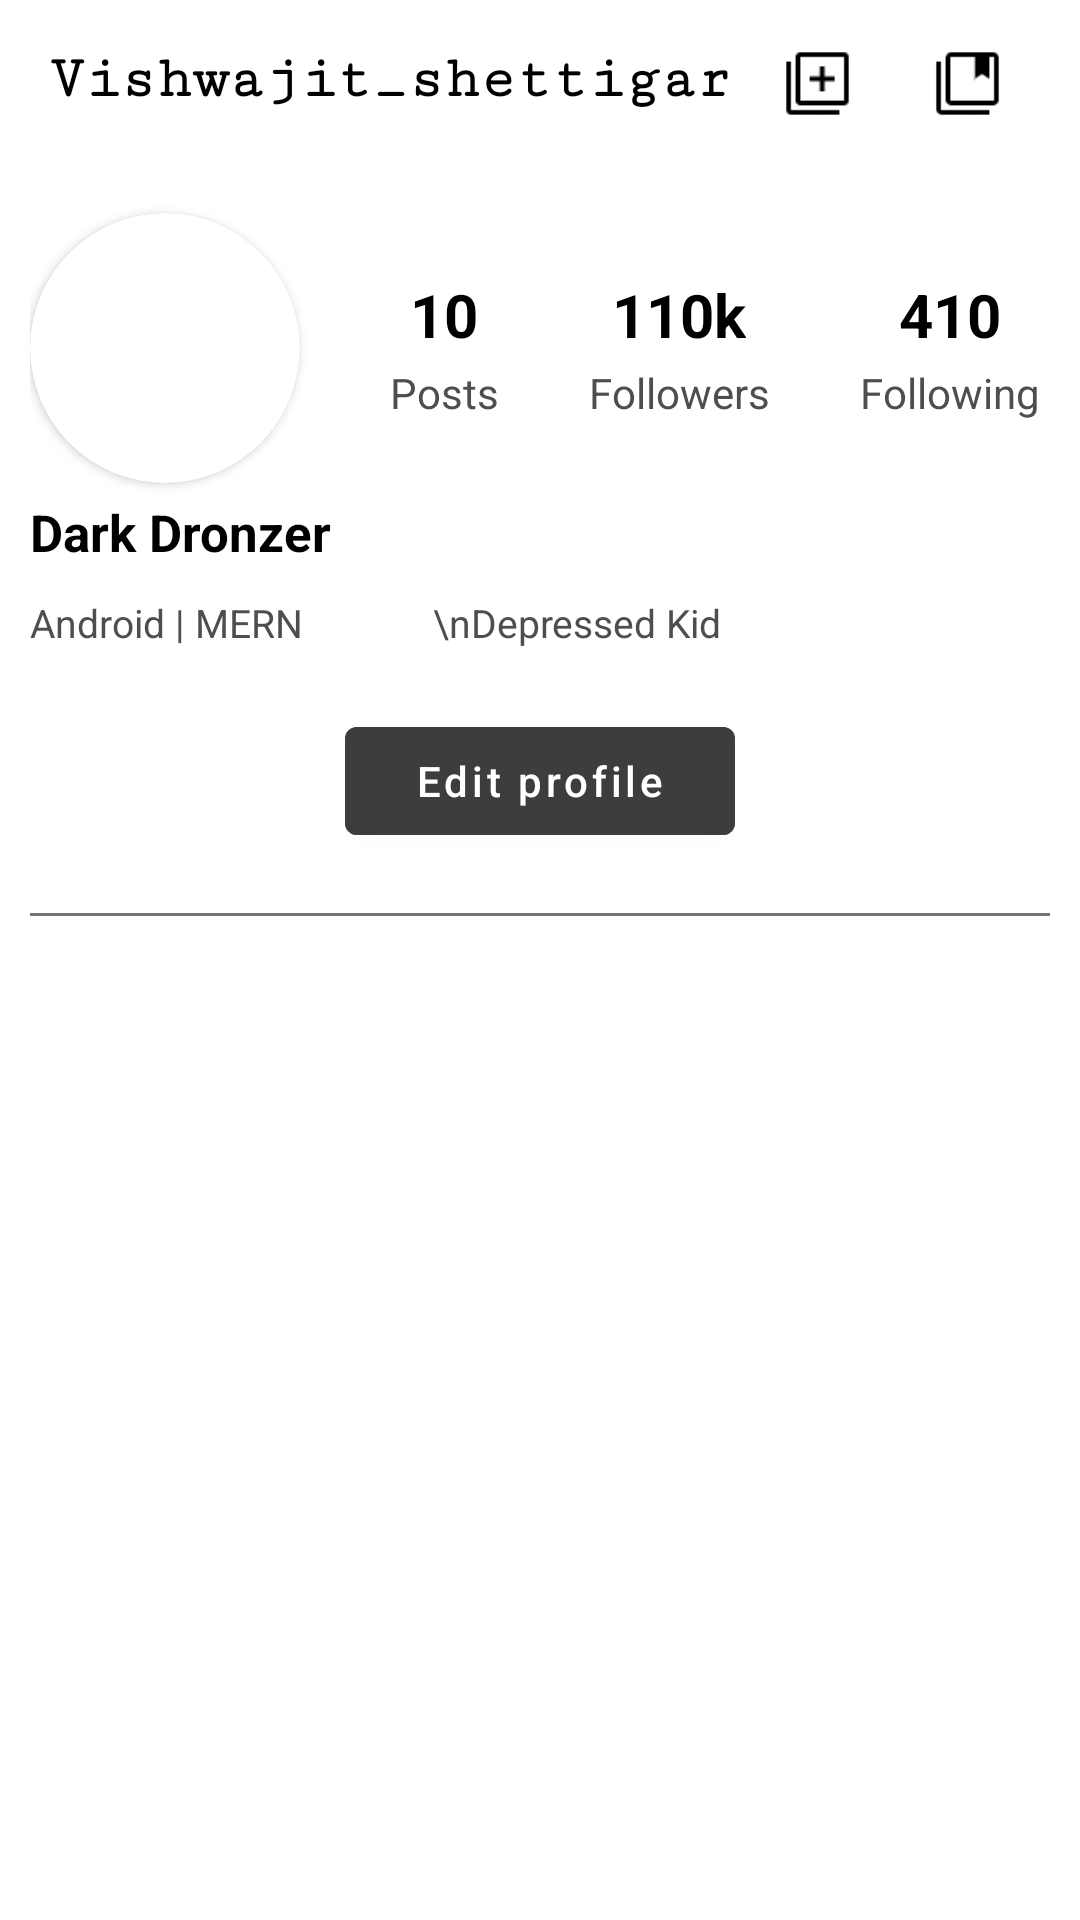

Named icons in this screenshot (1080x1920) and their centers, (x=x, y=y):
addnewpost: (x=817, y=83)
bookmarkbtn: (x=967, y=83)
